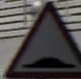Speed Breaker ahead: (10, 6, 76, 70)
